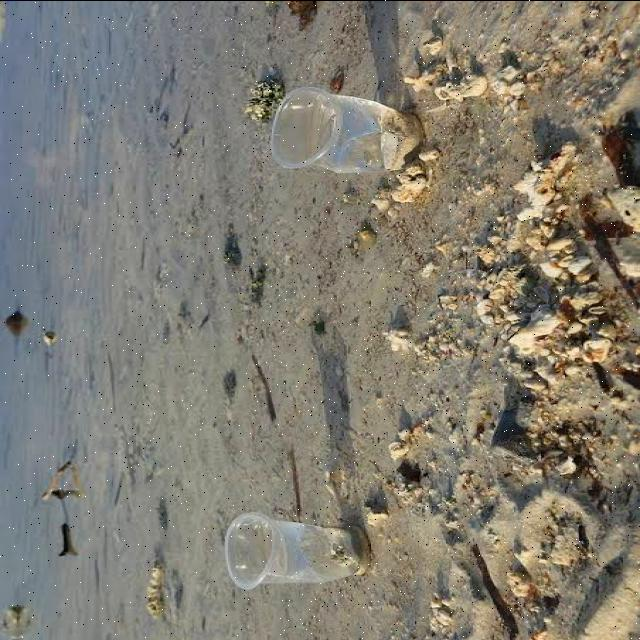plastic: (234, 70, 445, 214), (207, 484, 405, 616)
